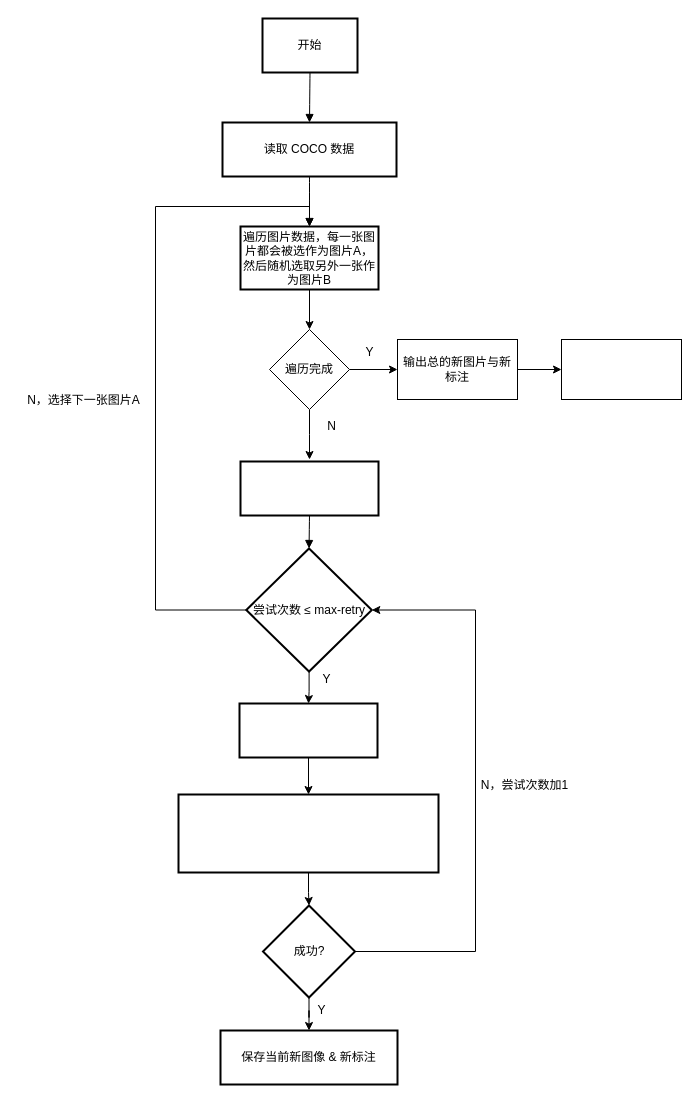
Some shapes in this 699 by 1102 pixel diagram are drawn without their labels. The centre of each missing label's shape, as x and y in pixels:
perform_copy_paste (无重叠): point 308,833
结束: point 621,369
随机缩放 A，尝试次数设为1: point 309,488
随机缩放 B: point 308,730
